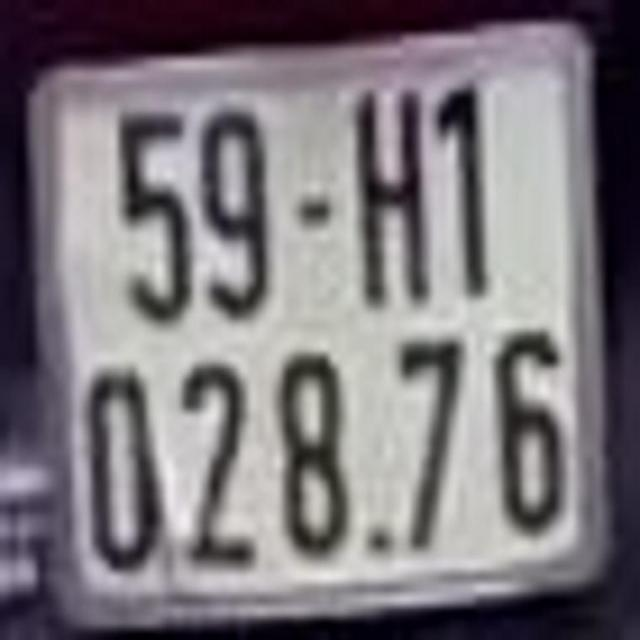0: (72, 368, 167, 581)
1: (437, 86, 494, 300)
2: (176, 364, 257, 567)
5: (110, 107, 196, 319)
6: (493, 325, 574, 538)
7: (393, 340, 467, 550)
8: (279, 351, 348, 553)
9: (200, 118, 268, 310)
H: (356, 97, 434, 306)
